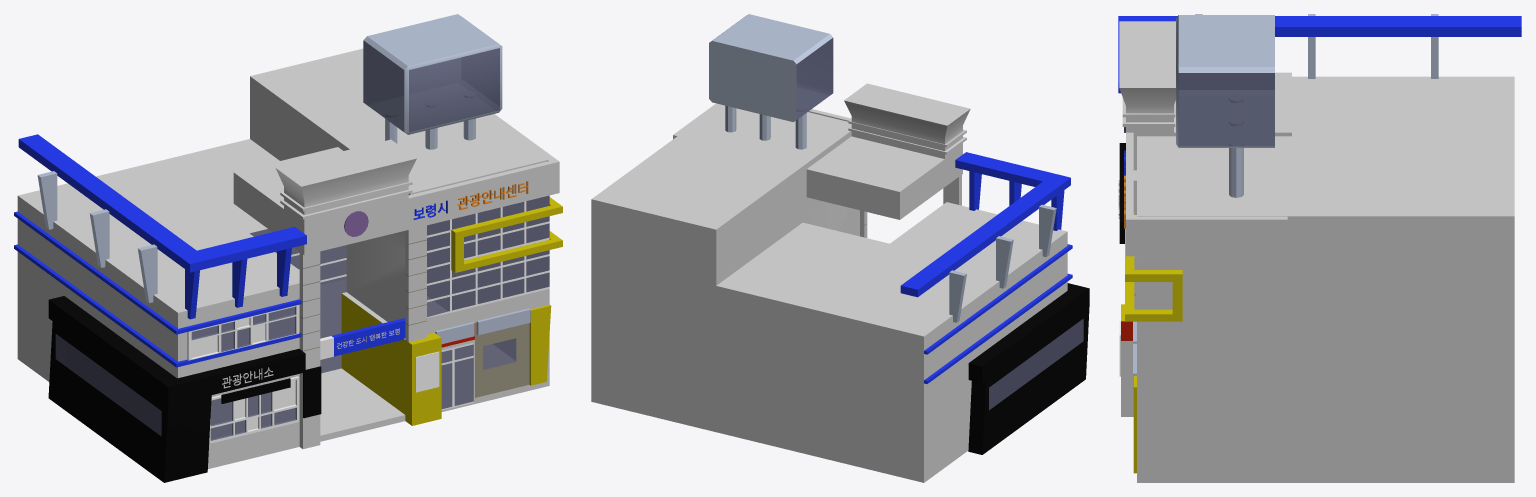
File: MS_Building02.fbx
The picture shows the model from 3 angles, left to right: view 1: azimuth 30°, elevation 25°; view 2: azimuth 150°, elevation 25°; view 3: azimuth 270°, elevation 25°; orthographic projection. The views are drawn at different scales.
Parts seen in each view (by area): view 1: MS_Building02; view 2: MS_Building02; view 3: MS_Building02.
Boxes of the visible parts, x1,y1,x2,y2 form: MS_Building02: [14, 14, 562, 482]; MS_Building02: [591, 14, 1089, 482]; MS_Building02: [1118, 14, 1521, 482].
Size of the model in its own units: 978 by 731 by 794.
